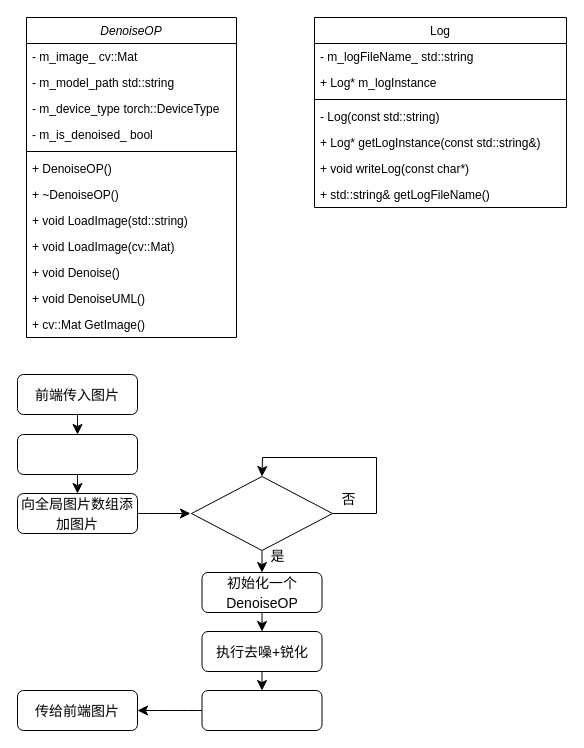
Image size: 584x748. Some labels were removed from this diagram. Each missing label, with the centre of its shape:
"全局数组中存在图片" belongs at (261,513).
"初始化全局模型" belongs at (77,454).
"记录日志" belongs at (261,710).
